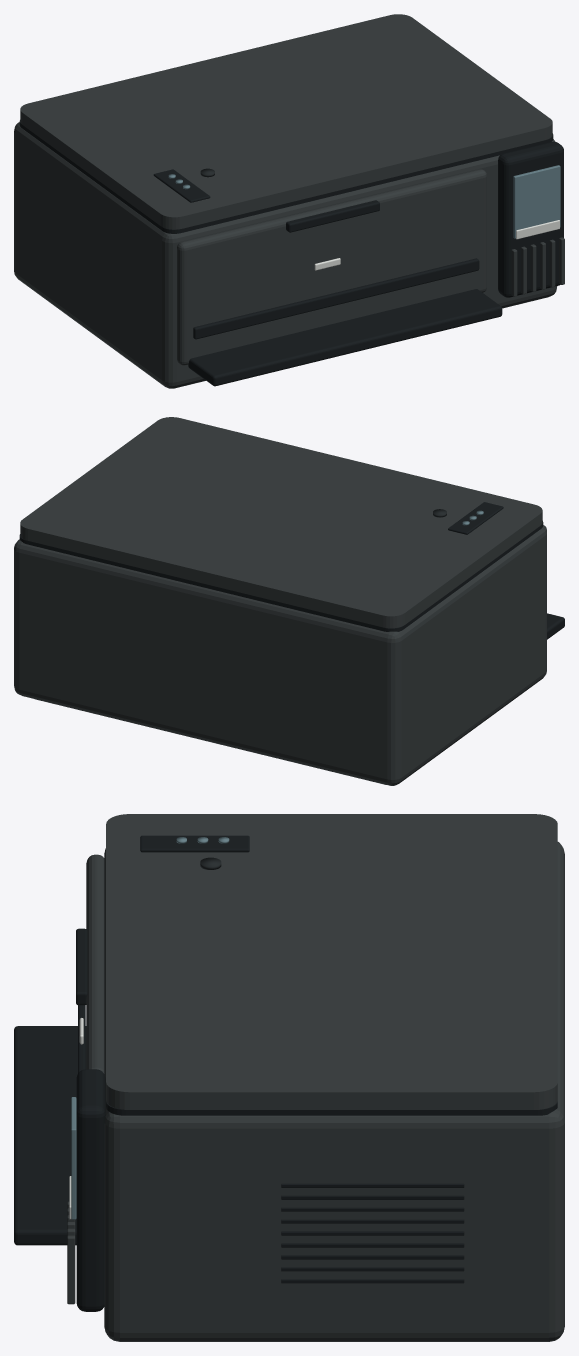
The model's file is lod0_source.glb.
3 renders of one model, top to bottom at view 1: azimuth 30°, elevation 25°; view 2: azimuth 150°, elevation 25°; view 3: azimuth 270°, elevation 25°, orthographic. The views are drawn at different scales.
Parts seen in each view (by area): view 1: Low rounded scanner lid, Front broad charcoal access door, Low wide charcoal printer body, Output tray lower rail, Right tall ink compartment rim, Horizontal paper exit slot, Muted blue grey ink window, Scanner lid fine seam, Front top pull edge, Top corner control strip; view 2: Low wide charcoal printer body, Low rounded scanner lid, Scanner lid fine seam, Top corner control strip; view 3: Low rounded scanner lid, Low wide charcoal printer body, Output tray lower rail, Right tall ink compartment rim, Front broad charcoal access door, Scanner lid fine seam, Top corner control strip, Right side cooling slot 0, Right side cooling slot 7, Right side cooling slot 1, Right side cooling slot 2, Right side cooling slot 3 (+6 smaller).
Part boxes in pixels (<box>): Low rounded scanner lid: <box>20,14,552,229</box>; Front broad charcoal access door: <box>177,169,486,365</box>; Low wide charcoal printer body: <box>14,122,557,388</box>; Output tray lower rail: <box>188,289,502,386</box>; Right tall ink compartment rim: <box>498,141,563,297</box>; Horizontal paper exit slot: <box>193,258,479,339</box>; Muted blue grey ink window: <box>513,165,560,238</box>; Scanner lid fine seam: <box>19,120,553,233</box>; Front top pull edge: <box>286,200,379,232</box>; Top corner control strip: <box>153,169,210,202</box>; Low wide charcoal printer body: <box>14,525,546,785</box>; Low rounded scanner lid: <box>20,417,542,628</box>; Scanner lid fine seam: <box>19,521,543,631</box>; Top corner control strip: <box>448,502,503,534</box>; Low rounded scanner lid: <box>106,814,557,1109</box>; Low wide charcoal printer body: <box>104,842,564,1341</box>; Output tray lower rail: <box>14,1026,86,1245</box>; Right tall ink compartment rim: <box>76,1069,105,1311</box>; Front broad charcoal access door: <box>86,854,104,1073</box>; Scanner lid fine seam: <box>106,1100,557,1115</box>; Top corner control strip: <box>140,835,249,852</box>; Right side cooling slot 0: <box>281,1279,464,1283</box>; Right side cooling slot 7: <box>281,1195,464,1199</box>; Right side cooling slot 1: <box>281,1267,464,1271</box>; Right side cooling slot 2: <box>281,1255,464,1259</box>; Right side cooling slot 3: <box>281,1243,464,1247</box>.
Bounding box in the file's own units: 0.5065 × 0.224 × 0.4185.
